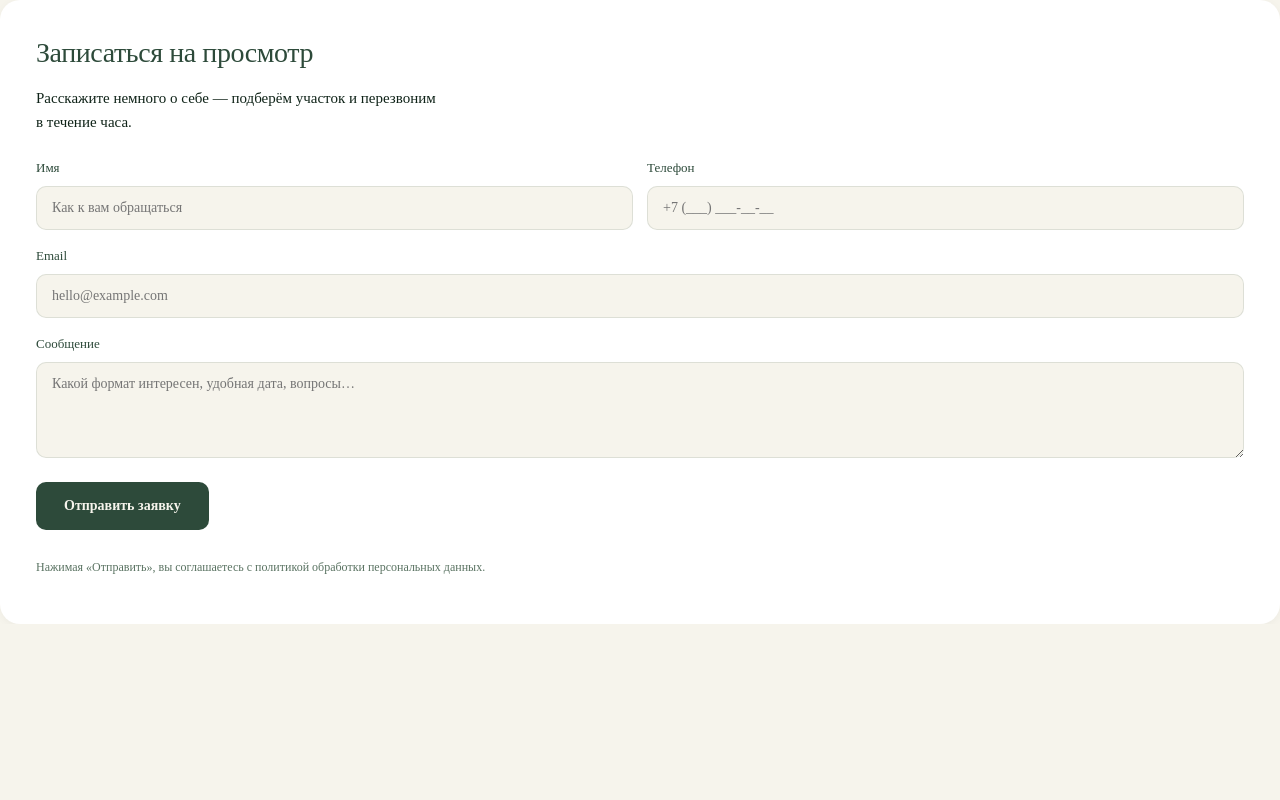
Test case: ContactsForm › rejects malformed email
This screenshot has width=1280, height=800.
Type "Иван Петров" into the field labelled "Имя". click: (334, 208)
box: 36,186 -> 633,230
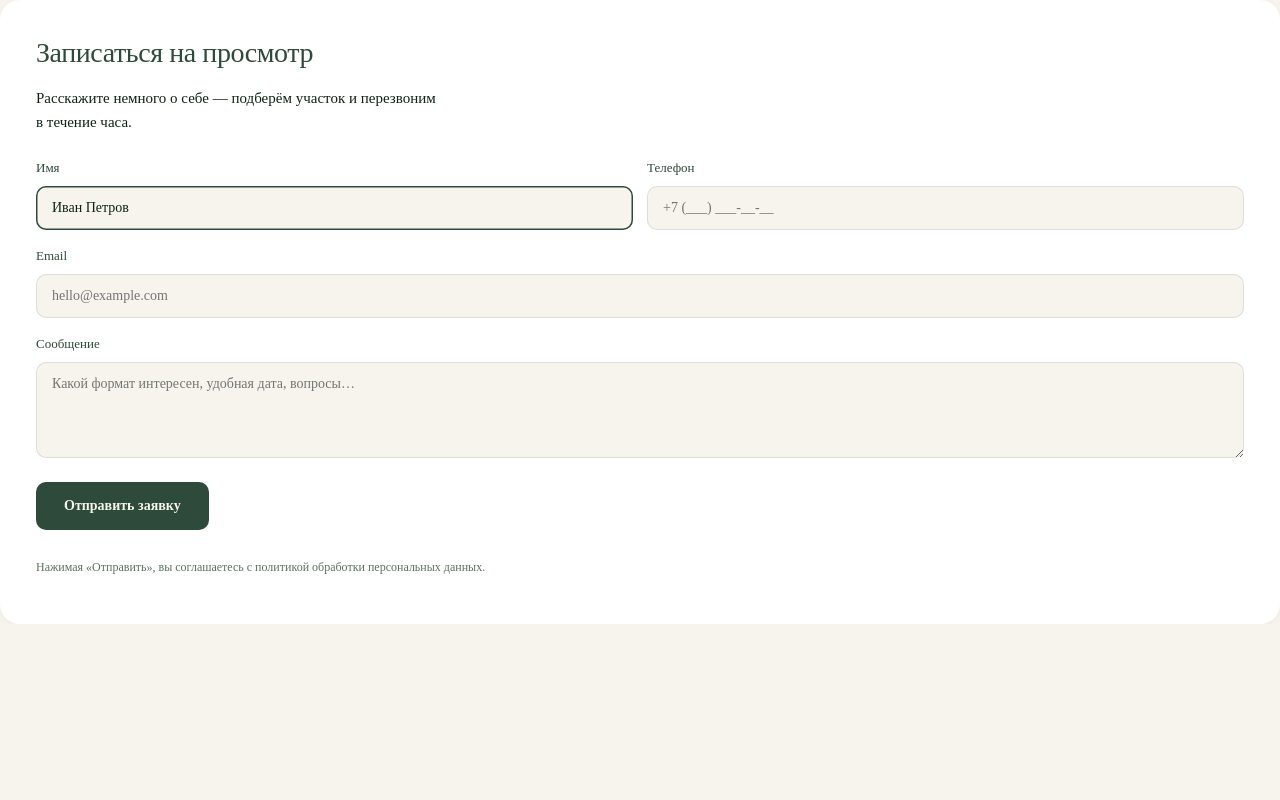
Type "+7 861 000 00 00" into the field labelled "Телефон". click: (946, 208)
box: 647,186 -> 1244,230
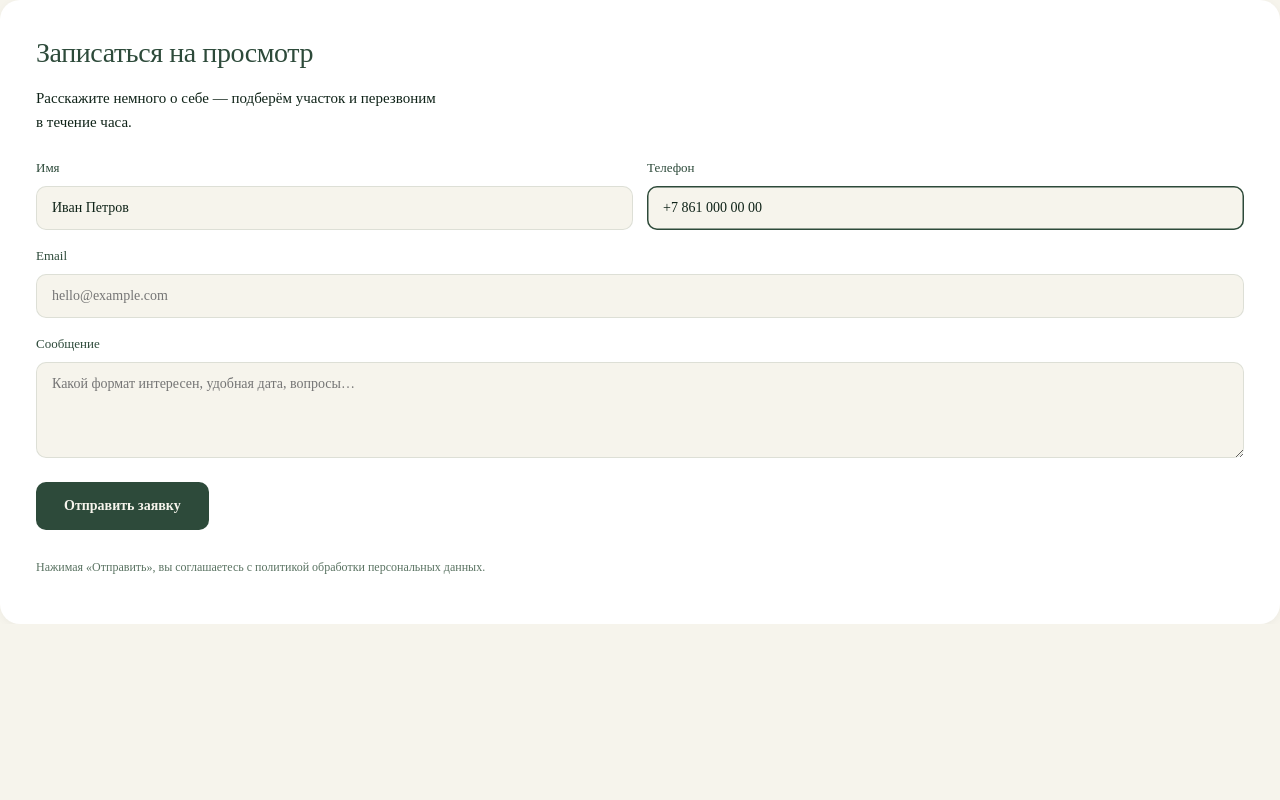
Type "not-an-email" into the field labelled "Email". click: (640, 296)
box: 36,274 -> 1244,318
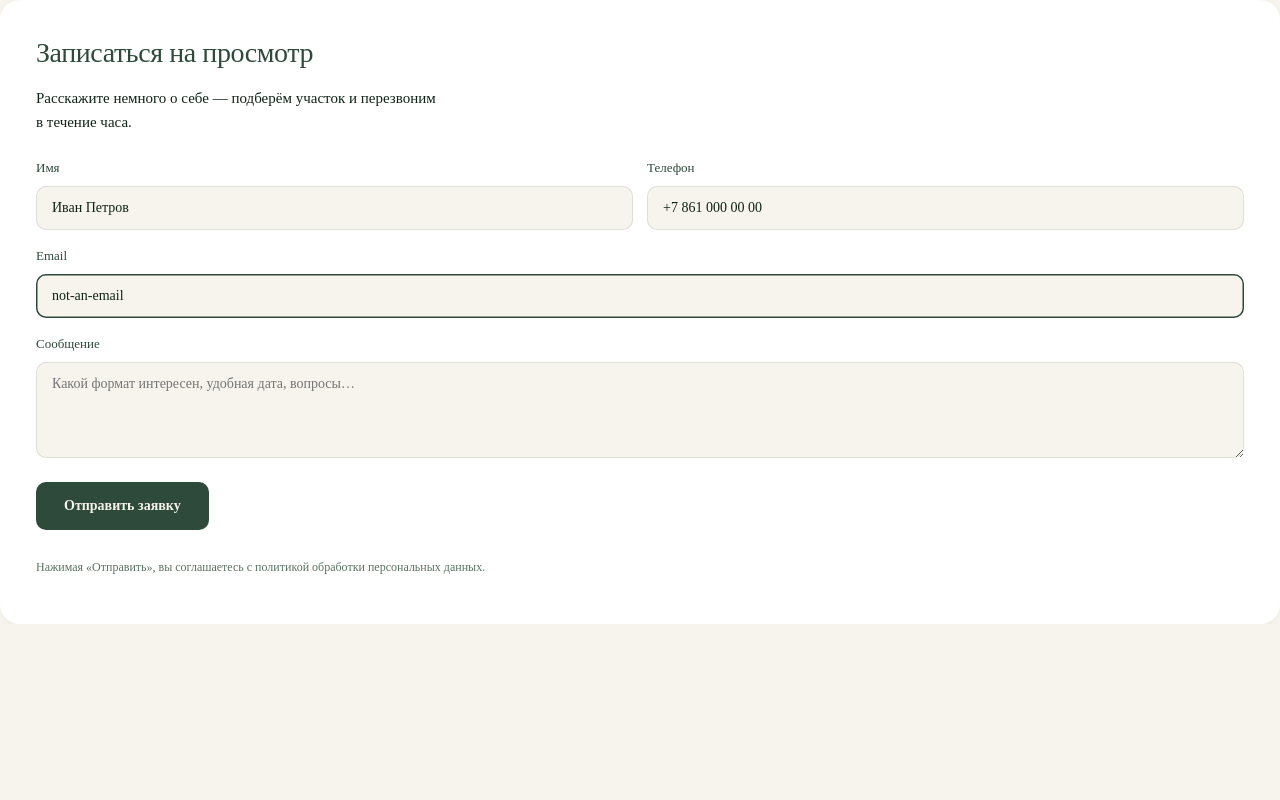
Click the button "Отправить заявку". click: (122, 506)
box: 36,482 -> 209,530
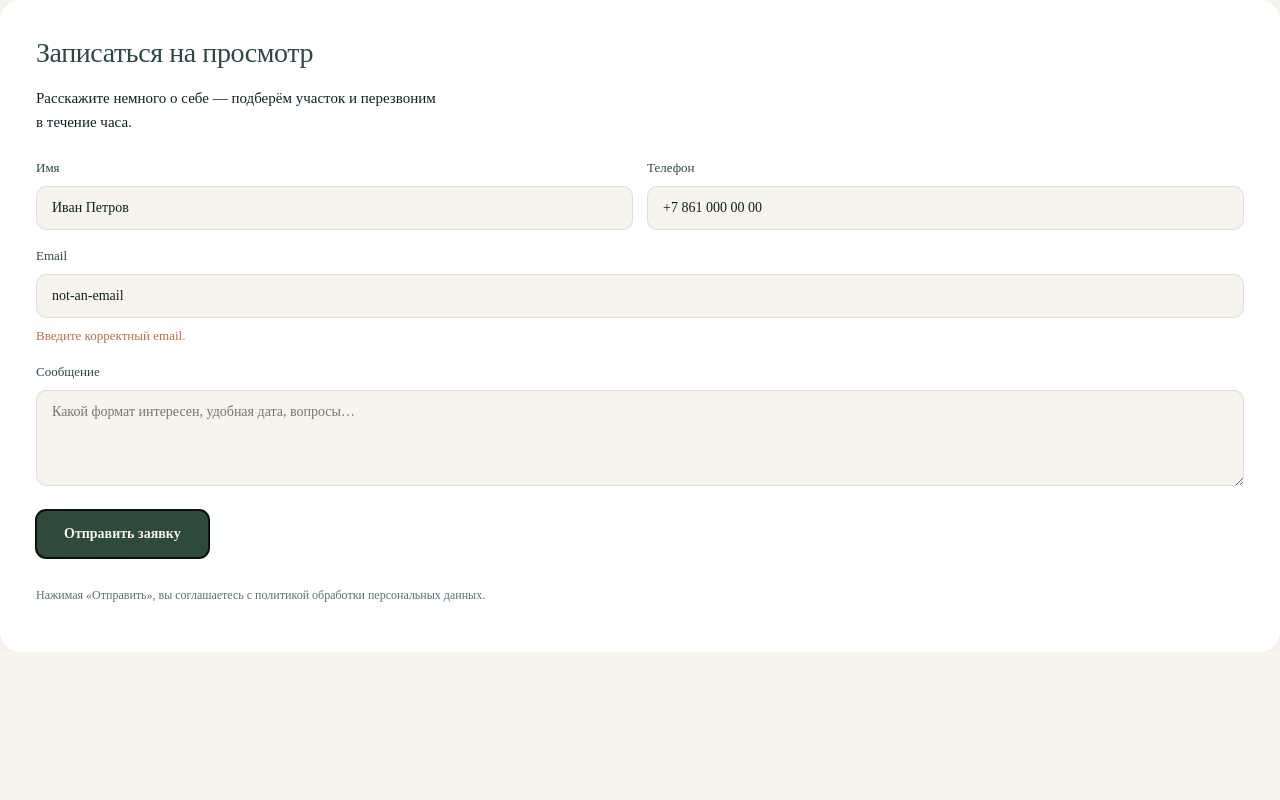
Check: the text "Введите корректный email." is shown, box 36,328 -> 185,343
